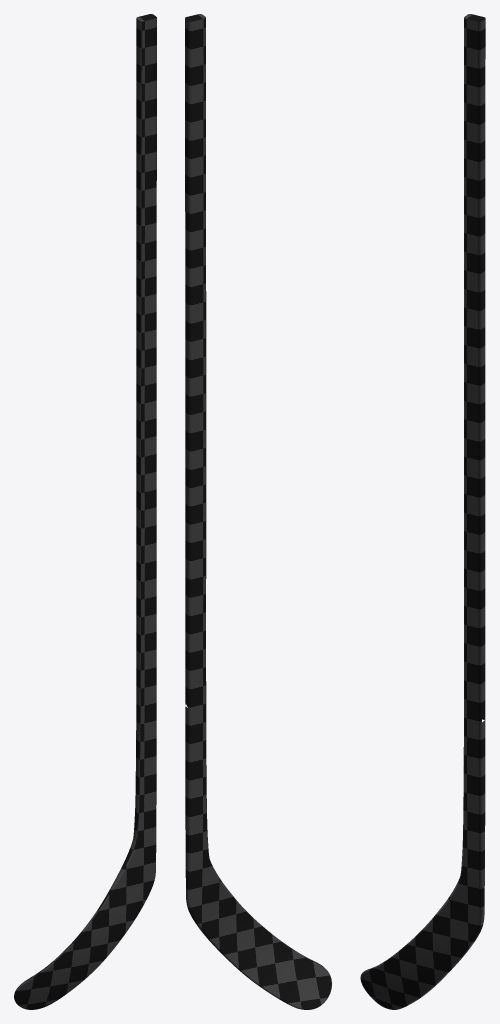
Rendered from P90M-LIE4_0-ST.glb.
The picture shows the model from 3 angles, left to right: view 1: azimuth 30°, elevation 25°; view 2: azimuth 210°, elevation 25°; view 3: azimuth 330°, elevation 25°; orthographic projection. The views are drawn at different scales.
Visible parts, largest first — view 1: geometry_0; view 2: geometry_0; view 3: geometry_0.
Part boxes in pixels (bbox=[...]): geometry_0: bbox=[14, 14, 156, 1009]; geometry_0: bbox=[185, 14, 331, 1009]; geometry_0: bbox=[360, 14, 485, 1009].
Size of the model in its own units: 227 by 1650 by 56.47.
1 material, 1 textured.
